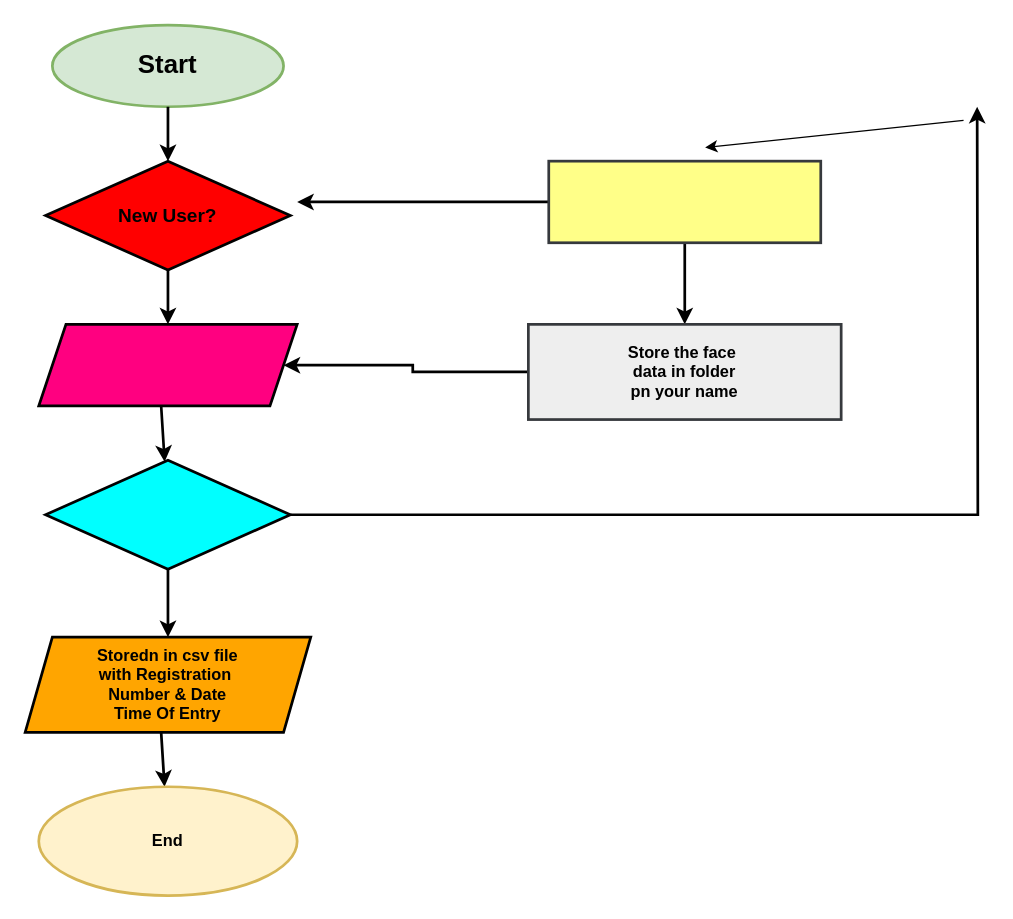
Some shapes in this 1013 by 919 pixel diagram are drawn without their labels. The shapes that lost their labels are listed below. From the top down, each one's centre as x and y in pixels, then its label:
At point 684,201: "Give Your Photograph".
At point 167,364: "Recognize The Face".
At point 167,514: "Face Recognized".
